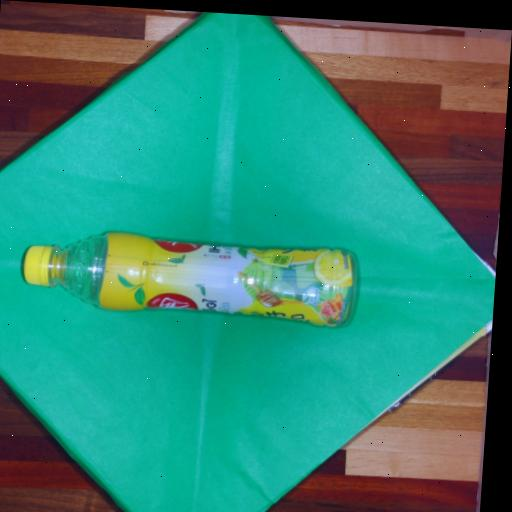bottle: (0, 207, 370, 344)
